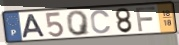5: (44, 11, 65, 38)
8: (114, 7, 133, 34)
A: (21, 13, 47, 39)
C: (90, 9, 113, 35)
F: (134, 6, 157, 33)
Q: (65, 10, 91, 37)
